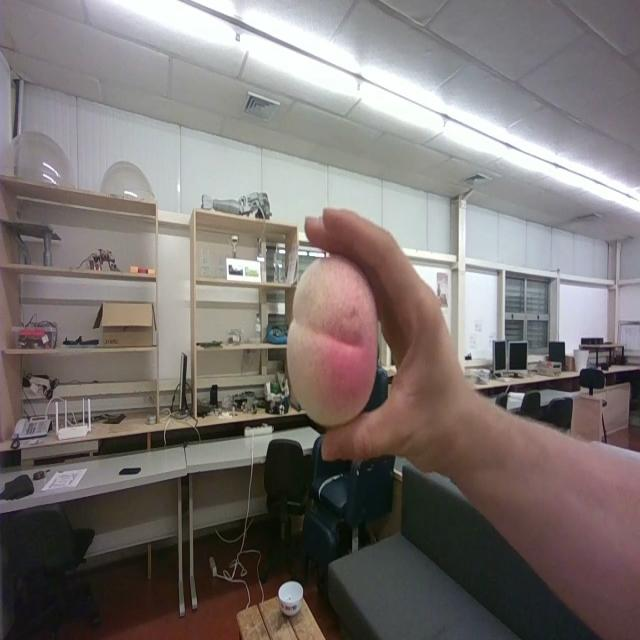peach: (286, 256, 378, 426)
